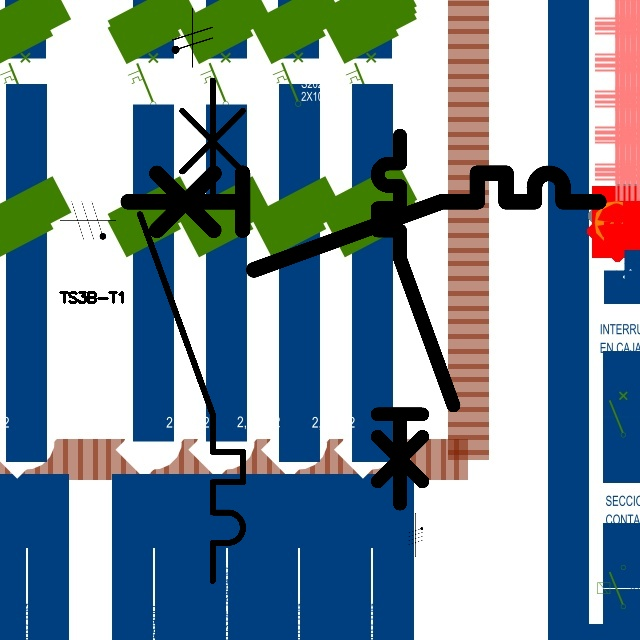interruptor_termomagnetico: (127, 67, 256, 594), (115, 161, 610, 282), (368, 126, 462, 513)
